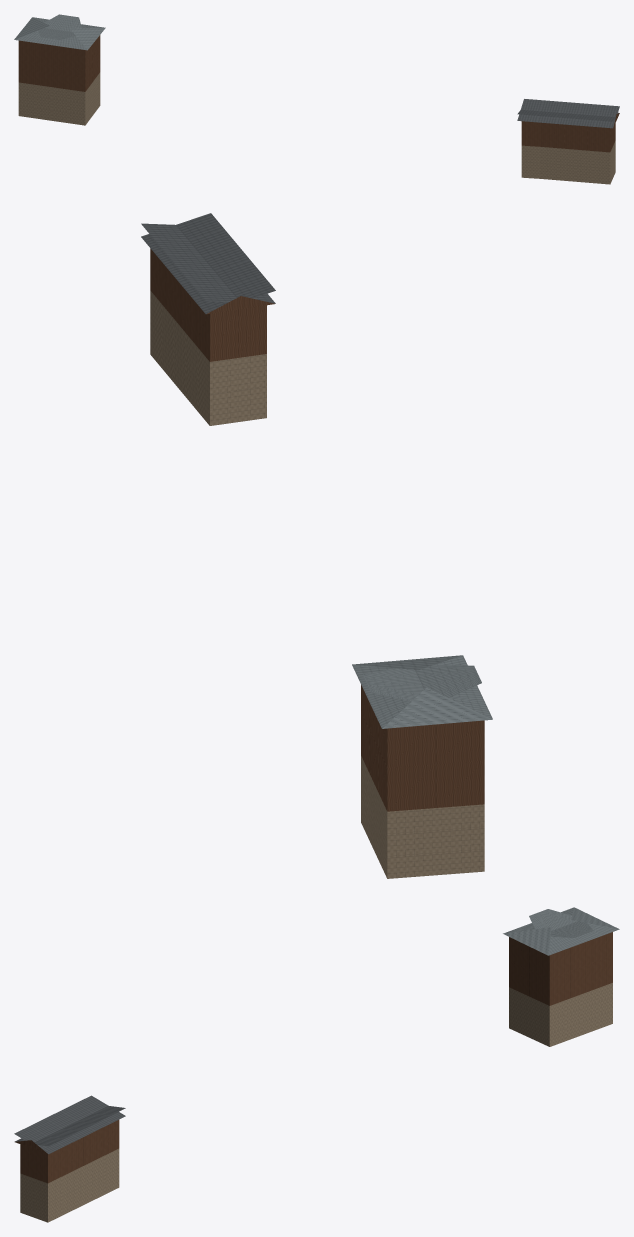
Rendered from bld_c43_45_197.gltf.
3 renders of one model, top to bottom at view 1: azimuth 30°, elevation 25°; view 2: azimuth 150°, elevation 25°; view 3: azimuth 270°, elevation 25°, orthographic. The views are drawn at different scales.
Visible parts, largest first — view 1: bld_c43_45_197; view 2: bld_c43_45_197; view 3: bld_c43_45_197.
Part boxes in pixels (x1,y1,x2,y2): bld_c43_45_197: (14, 14, 619, 184); bld_c43_45_197: (141, 213, 492, 878); bld_c43_45_197: (14, 907, 619, 1222).
Size of the model in its own units: 62.06 by 12.7 by 68.08.
5 materials, 5 textured.
